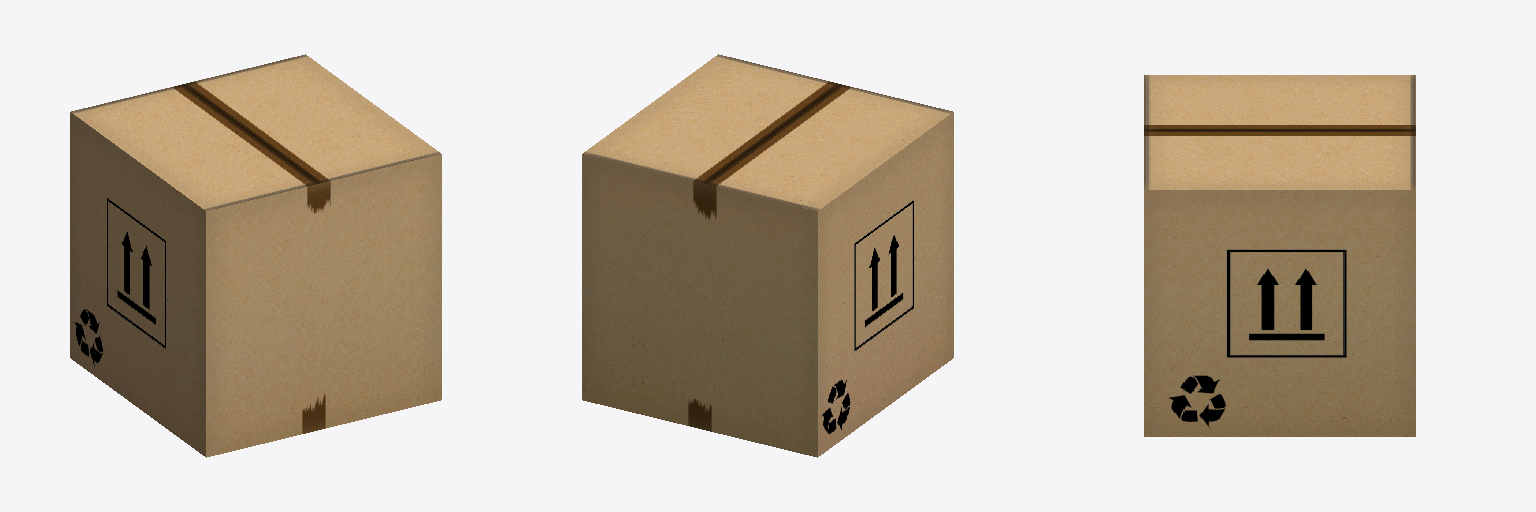
3 views of the same model, side by side, from view 1: azimuth 30°, elevation 25°; view 2: azimuth 150°, elevation 25°; view 3: azimuth 270°, elevation 25° (orthographic).
Visible parts, largest first — view 1: Cube; view 2: Cube; view 3: Cube.
Part boxes in pixels (x1,y1,x2,y2): Cube: (70,54,441,457); Cube: (582,54,953,457); Cube: (1144,75,1415,436).
Size of the model in its own units: 2 by 2 by 2.
1 materials, 1 textured.